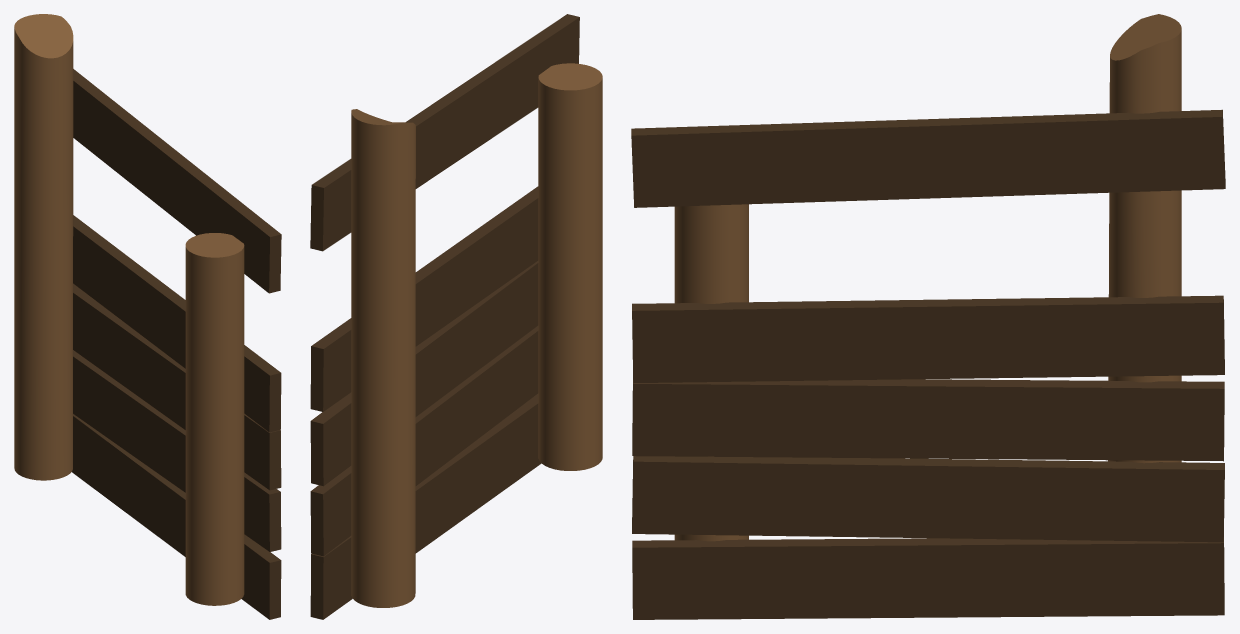
The model's file is muro_madera.fbx.
3 renders of one model, left to right at view 1: azimuth 30°, elevation 25°; view 2: azimuth 150°, elevation 25°; view 3: azimuth 270°, elevation 25°, orthographic. The views are drawn at different scales.
Visible parts, largest first — view 1: Cylinder; view 2: Cylinder; view 3: Cylinder.
Boxes of the visible parts, x1,y1,x2,y2 form: Cylinder: [14, 14, 281, 619]; Cylinder: [310, 14, 602, 619]; Cylinder: [631, 14, 1225, 619].
Size of the model in its own units: 263 by 38.88 by 278.
